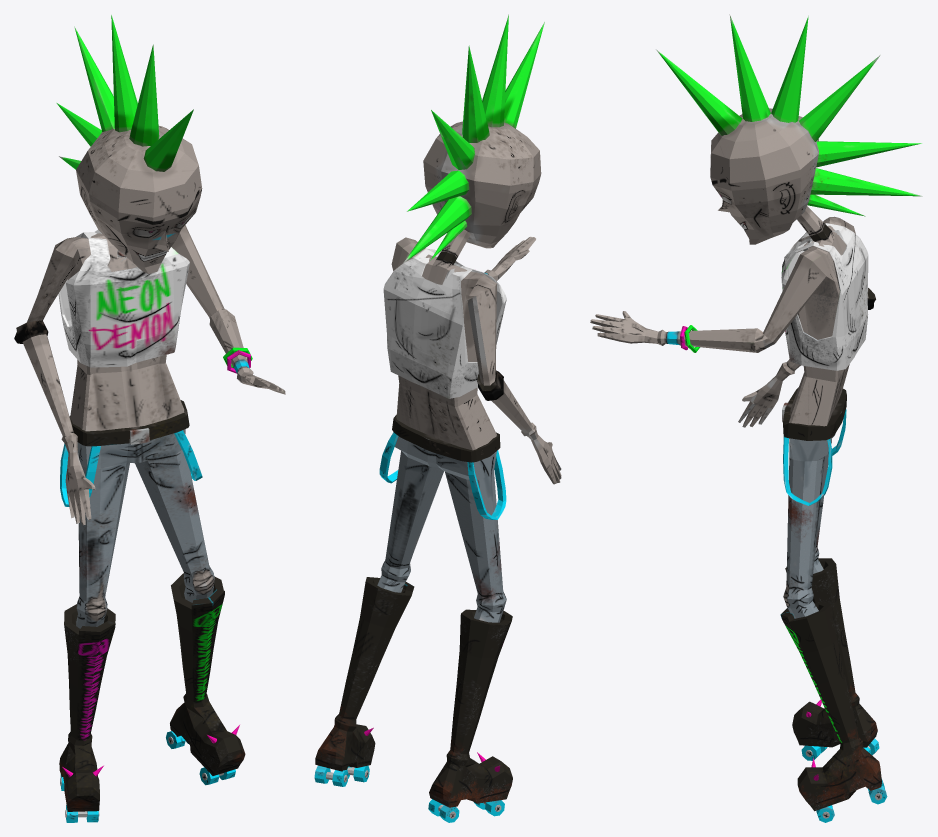
File: punkAnimation_000026.obj
The picture shows the model from 3 angles, left to right: view 1: azimuth 30°, elevation 25°; view 2: azimuth 150°, elevation 25°; view 3: azimuth 270°, elevation 25°; orthographic projection. The views are drawn at different scales.
Visible parts, largest first — view 1: Cube.004_Cube.003; view 2: Cube.004_Cube.003; view 3: Cube.004_Cube.003.
Part boxes in pixels (box(x1,y1,x2,y2)): Cube.004_Cube.003: box(14, 15, 285, 822); Cube.004_Cube.003: box(314, 14, 561, 822); Cube.004_Cube.003: box(590, 14, 922, 822).
Size of the model in its own units: 1.96 by 7.5 by 3.01.
